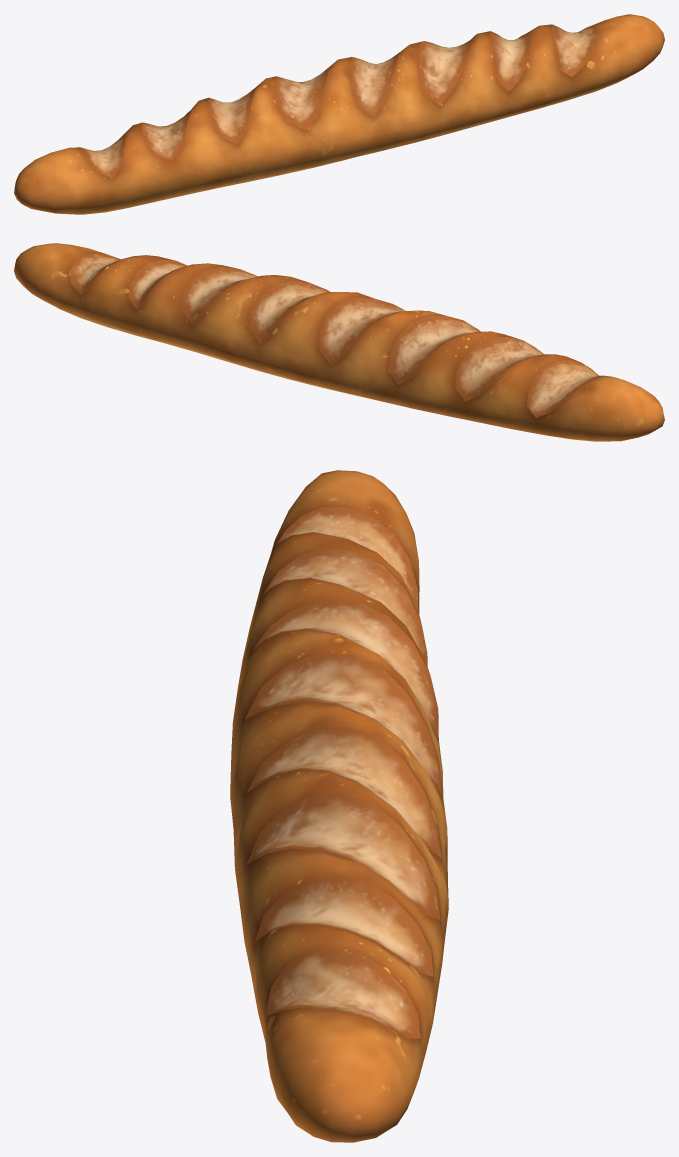
Rendered from Baguette_Full.fbx.
The picture shows the model from 3 angles, top to bottom: view 1: azimuth 30°, elevation 25°; view 2: azimuth 150°, elevation 25°; view 3: azimuth 270°, elevation 25°; orthographic projection. The views are drawn at different scales.
Visible parts, largest first — view 1: Baguette_Full; view 2: Baguette_Full; view 3: Baguette_Full.
Part boxes in pixels (left/top/right/bottom): Baguette_Full: left=14, top=14, right=664, bottom=214; Baguette_Full: left=14, top=243, right=664, bottom=441; Baguette_Full: left=230, top=470, right=448, bottom=1142.
Size of the model in its own units: 5.32 by 0.7131 by 0.7818.
